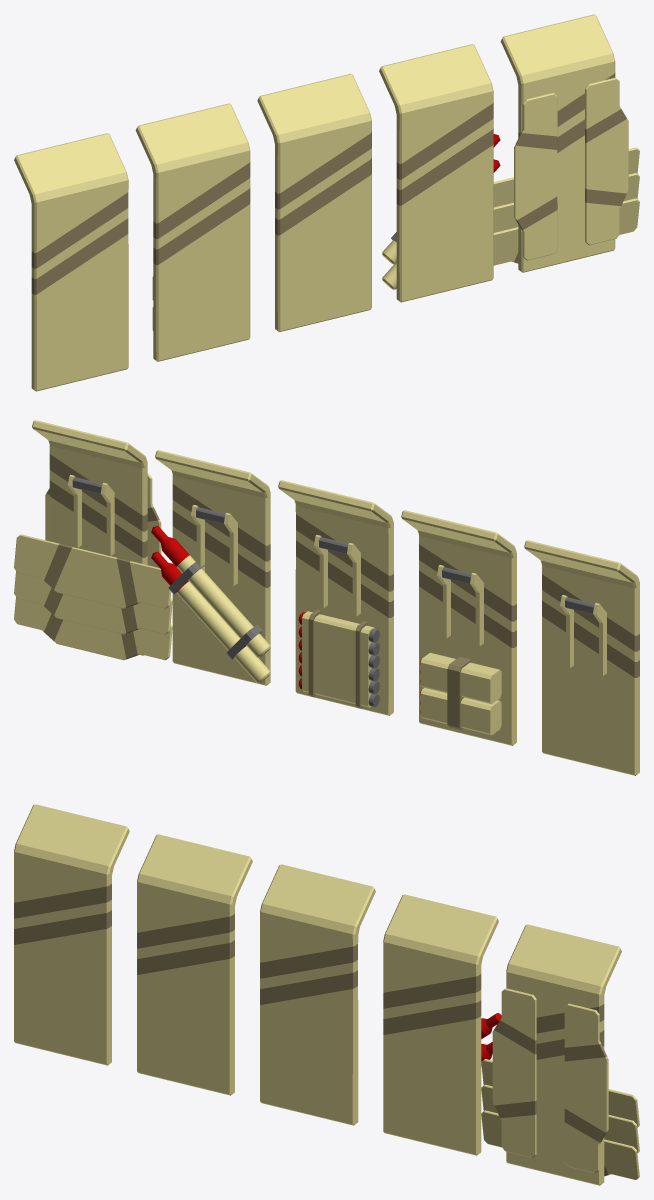
Rendered from MultiShield.fbx.
3 views of the same model, one above another, from view 1: azimuth 30°, elevation 25°; view 2: azimuth 150°, elevation 25°; view 3: azimuth 330°, elevation 25° (orthographic).
Parts seen in each view (by area): view 1: pCube107 (×5), pCube125, pCube124, pCube128, pCube127, pCube126; view 2: pCube107 (×5), pCube126, pCube112, pCube127, pCube128, pCube110 (×5), pCube111 (×5), pCylinder26, pCylinder27, pCube117, pCube116, pCube118 (+3 smaller); view 3: pCube107 (×5), pCube124, pCube125, pCube128, pCube127, pCube126.
Boxes of the visible parts, x1=… form: pCube107 (×5): x1=14, y1=14, x2=615, y2=391; pCube125: x1=514, y1=93, x2=557, y2=260; pCube124: x1=585, y1=77, x2=628, y2=245; pCube128: x1=493, y1=198, x2=639, y2=265; pCube127: x1=493, y1=173, x2=639, y2=232; pCube126: x1=493, y1=147, x2=639, y2=207; pCube107 (×5): x1=32, y1=420, x2=639, y2=775; pCube126: x1=14, y1=534, x2=171, y2=608; pCube112: x1=302, y1=611, x2=375, y2=707; pCube127: x1=14, y1=571, x2=172, y2=634; pCube128: x1=14, y1=597, x2=172, y2=660; pCube110 (×5): x1=100, y1=483, x2=606, y2=676; pCube111 (×5): x1=68, y1=474, x2=573, y2=668; pCylinder26: x1=151, y1=526, x2=270, y2=657; pCylinder27: x1=151, y1=551, x2=270, y2=683; pCube117: x1=420, y1=652, x2=501, y2=704; pCube116: x1=420, y1=688, x2=501, y2=735; pCube118: x1=447, y1=656, x2=471, y2=729; pCube107 (×5): x1=14, y1=804, x2=621, y2=1185; pCube124: x1=564, y1=1003, x2=608, y2=1173; pCube125: x1=492, y1=988, x2=536, y2=1157; pCube128: x1=481, y1=1110, x2=639, y2=1179; pCube127: x1=481, y1=1084, x2=639, y2=1152; pCube126: x1=481, y1=1059, x2=639, y2=1127.
Bounding box in the file's own units: 50.17 × 17.67 × 3.57.
